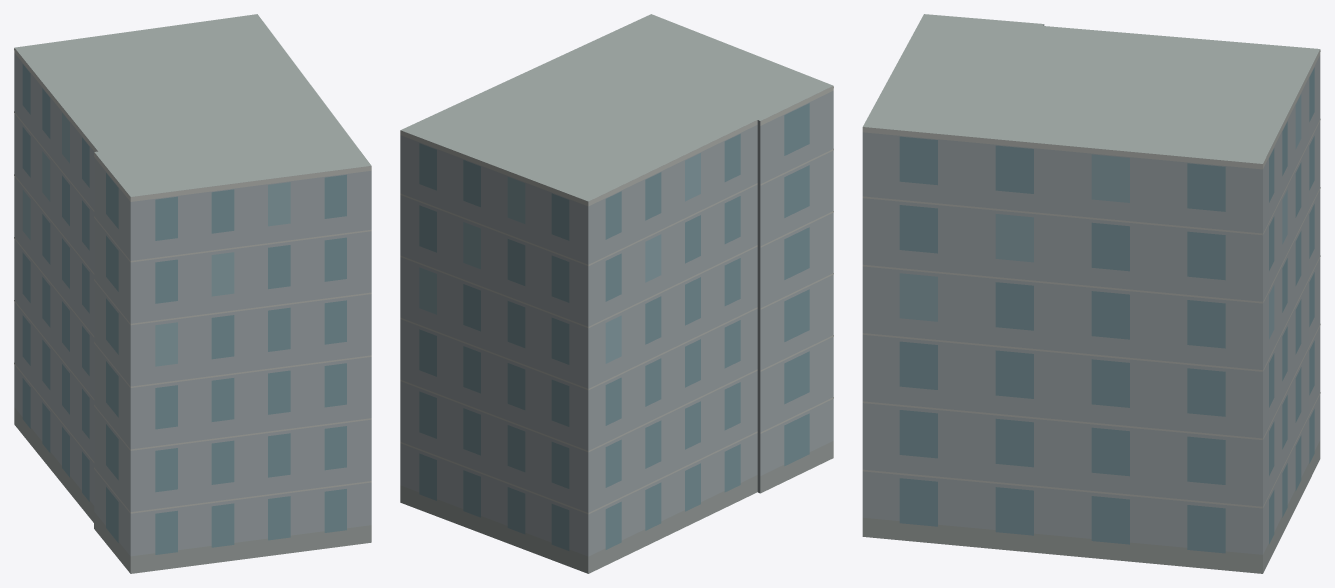
The model's file is survey-upis-32825727.glb.
The picture shows the model from 3 angles, left to right: view 1: azimuth 30°, elevation 25°; view 2: azimuth 150°, elevation 25°; view 3: azimuth 270°, elevation 25°; orthographic projection. The views are drawn at different scales.
Parts seen in each view (by area): view 1: survey-upis-32825727.tmp; view 2: survey-upis-32825727.tmp; view 3: survey-upis-32825727.tmp.
Part boxes in pixels (x1=…): survey-upis-32825727.tmp: x1=14, y1=14, x2=371, y2=573; survey-upis-32825727.tmp: x1=400, y1=14, x2=833, y2=573; survey-upis-32825727.tmp: x1=862, y1=14, x2=1320, y2=573.
Size of the model in its own units: 14.51 by 18.45 by 18.7.
